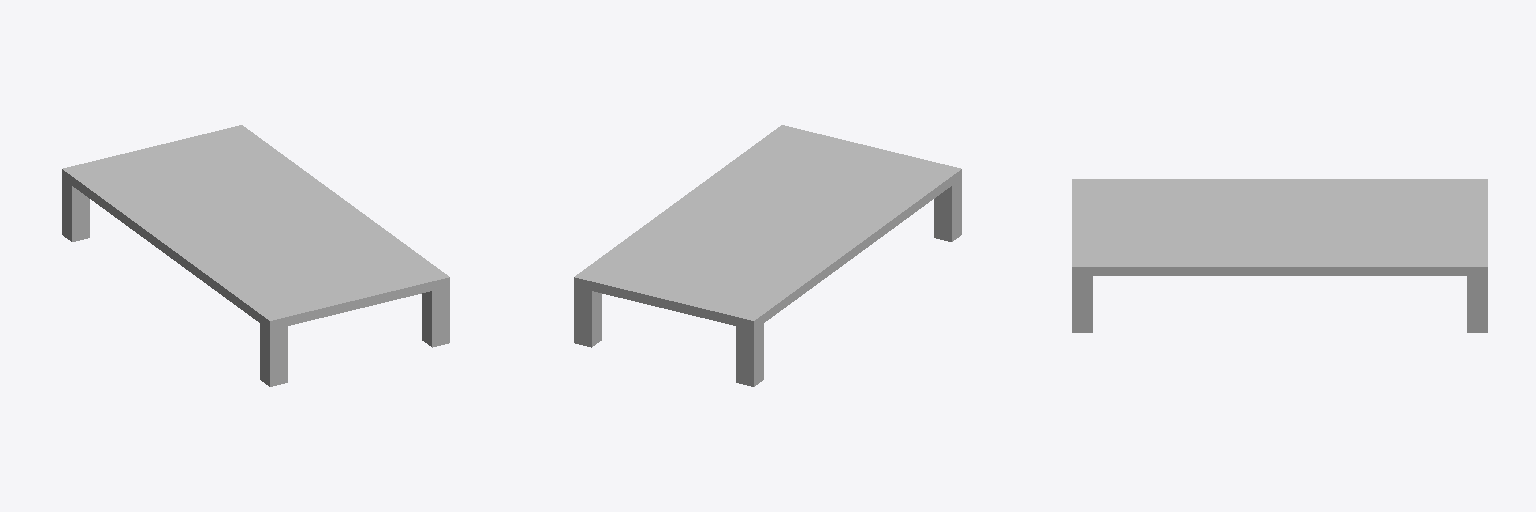
File: table.obj
The picture shows the model from 3 angles: view 1: azimuth 30°, elevation 25°; view 2: azimuth 150°, elevation 25°; view 3: azimuth 270°, elevation 25°; orthographic projection.
Size of the model in its own units: 1 by 0.35 by 2.